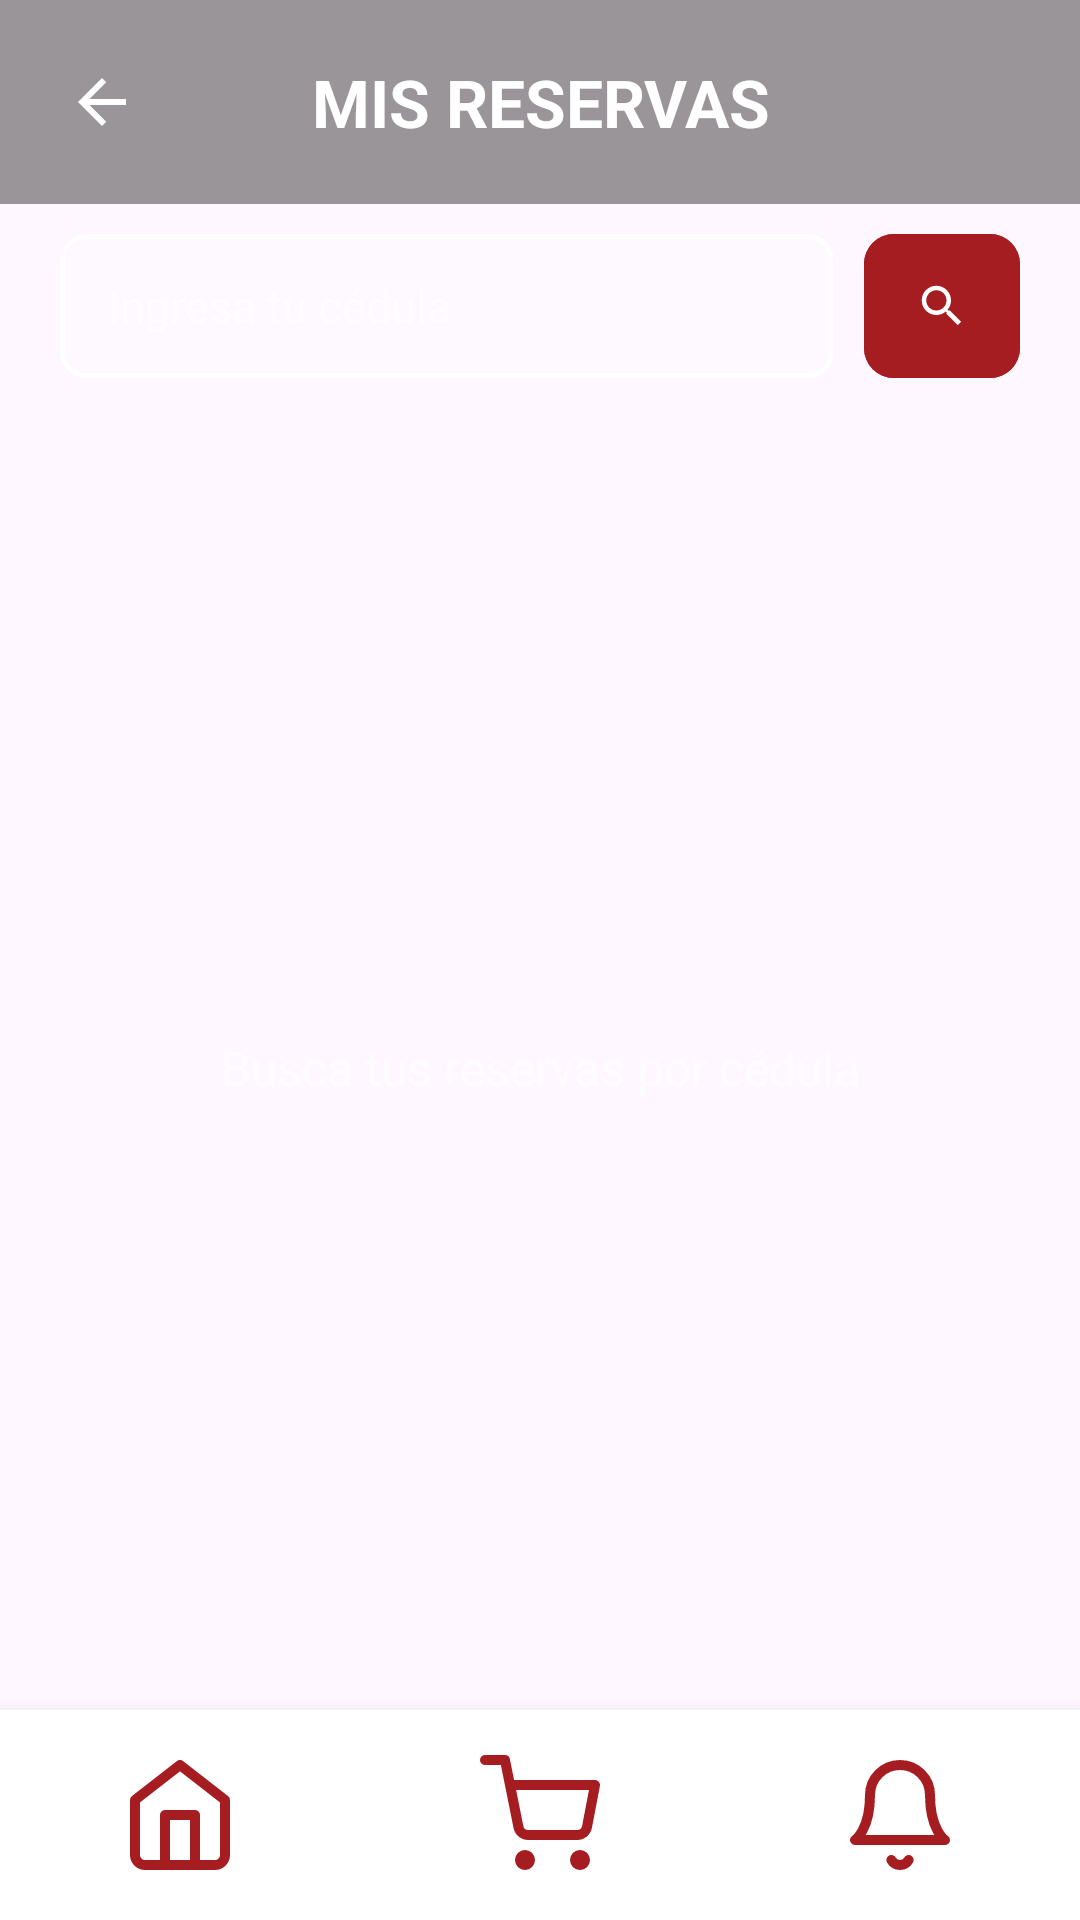

Icons on this 1080x1920 Android screen, each with the point to tap as [x,y]:
buscar: [942,306]
Carrito: [540,1812]
Inicio: [180,1815]
Notificaciones: [900,1815]
Volver: [102,102]
